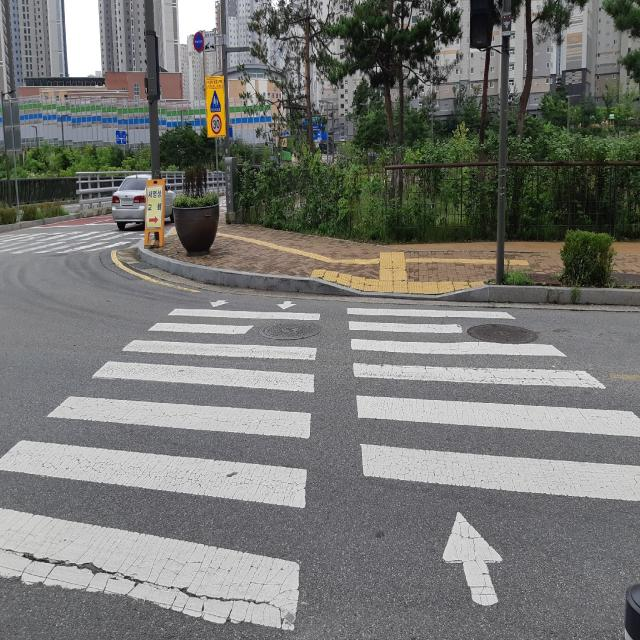횡단보도: (0, 299, 640, 638), (0, 219, 150, 265)
